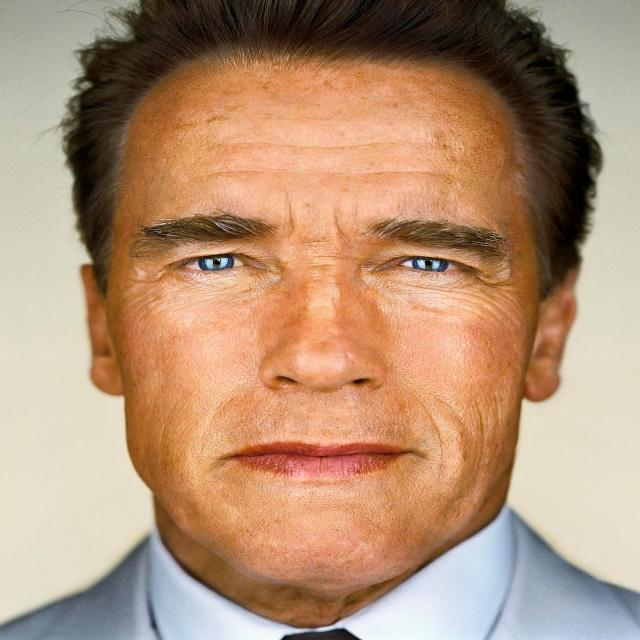earlobe: (520, 352, 562, 404), (88, 352, 129, 398)
eye: (389, 253, 471, 277), (173, 251, 257, 273)
nose: (259, 374, 388, 415)
wholeear: (520, 251, 580, 404), (76, 263, 128, 397)
